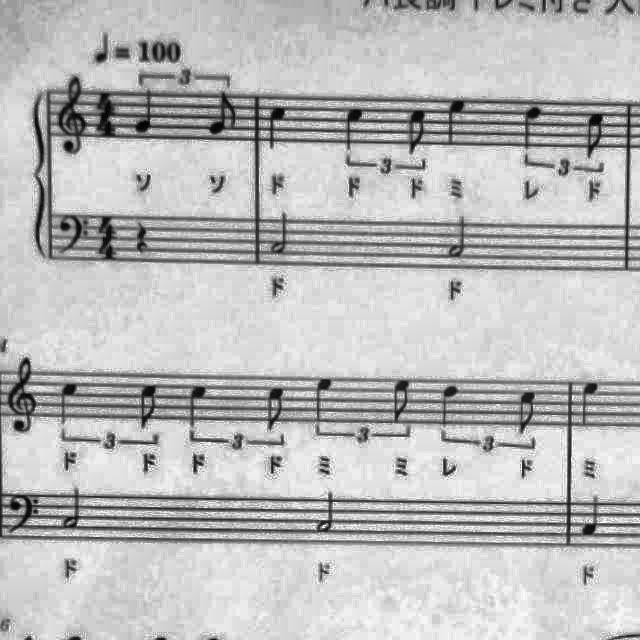Bass-clef: (2, 488, 42, 542), (54, 207, 94, 259)
Eighth-note: (204, 87, 242, 139), (132, 380, 166, 436), (260, 380, 294, 436), (580, 106, 612, 164), (402, 104, 434, 160), (387, 371, 421, 423), (514, 386, 542, 438)
Half-note: (444, 210, 474, 264), (58, 483, 88, 535), (312, 489, 341, 539), (268, 208, 294, 260)
Quarter-note: (574, 490, 610, 540), (442, 92, 474, 148), (338, 104, 372, 156), (308, 371, 340, 425), (516, 101, 548, 155), (263, 101, 293, 157), (434, 380, 466, 432), (55, 377, 85, 431), (182, 380, 212, 432), (576, 378, 606, 430), (133, 86, 161, 138)
Quarter-rest: (130, 217, 154, 260)
Treble-clef: (1, 354, 43, 438), (53, 72, 91, 160)
